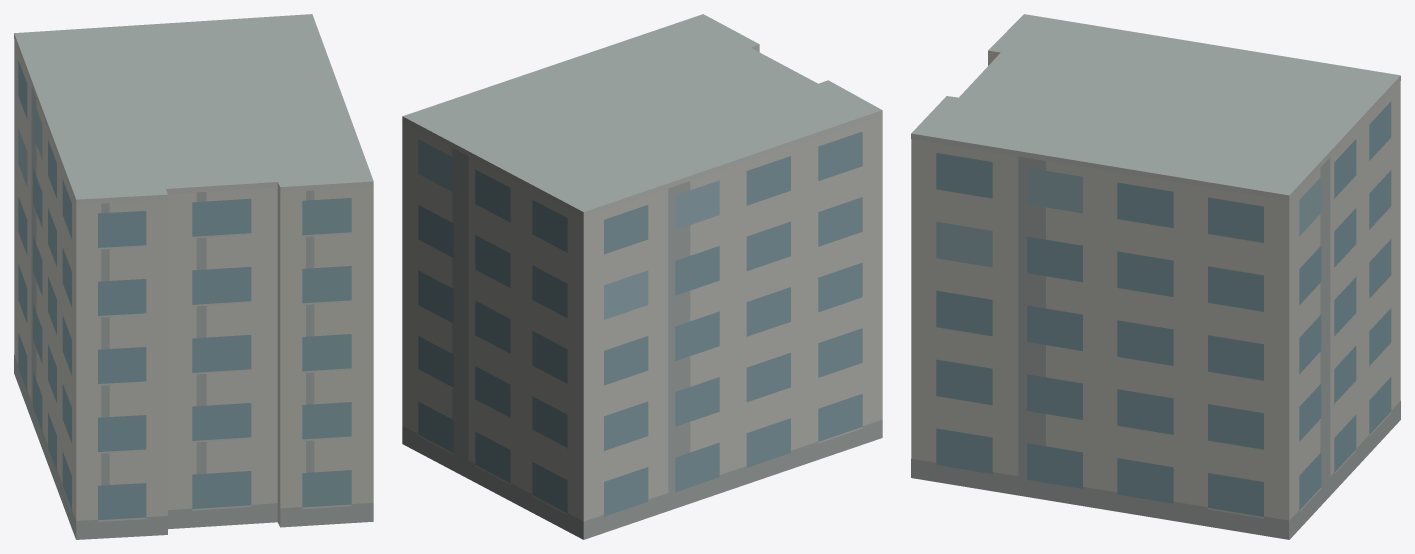
Rendered from survey-upis-33012465.glb.
3 views of the same model, side by side, from view 1: azimuth 30°, elevation 25°; view 2: azimuth 150°, elevation 25°; view 3: azimuth 270°, elevation 25° (orthographic). The views are drawn at different scales.
Visible parts, largest first — view 1: survey-upis-33012465.tmp; view 2: survey-upis-33012465.tmp; view 3: survey-upis-33012465.tmp.
Boxes of the visible parts, left/top/right/bottom form: survey-upis-33012465.tmp: left=14, top=14, right=373, bottom=539; survey-upis-33012465.tmp: left=402, top=14, right=882, bottom=539; survey-upis-33012465.tmp: left=911, top=14, right=1400, bottom=539.
Bounding box in the file's own units: 17.24 × 15.25 × 19.66.
